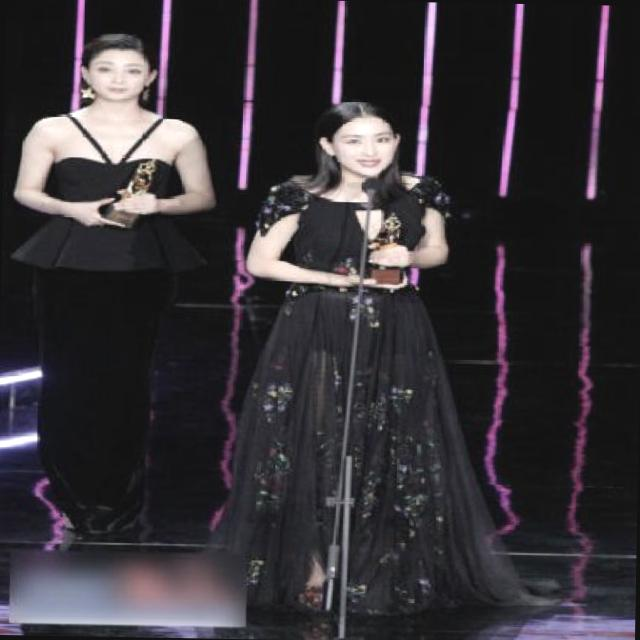Person: (207, 81, 506, 640), (0, 16, 245, 562)
